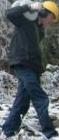boots: (43, 128, 59, 138), (0, 129, 16, 137)
gloves: (28, 1, 42, 10), (0, 91, 6, 103)
hard-hat: (0, 25, 9, 46)
